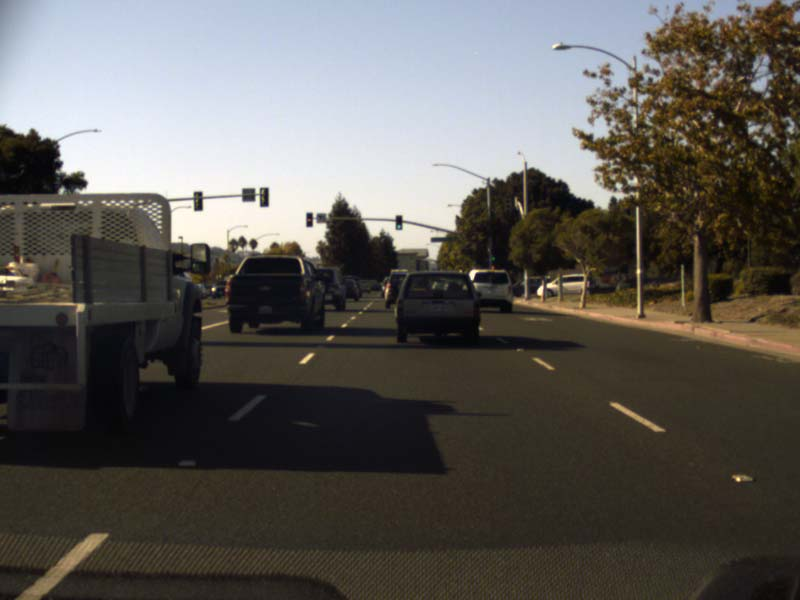Green: (395, 215, 401, 229), (491, 249, 495, 261)
Yellow: (306, 212, 312, 227)
